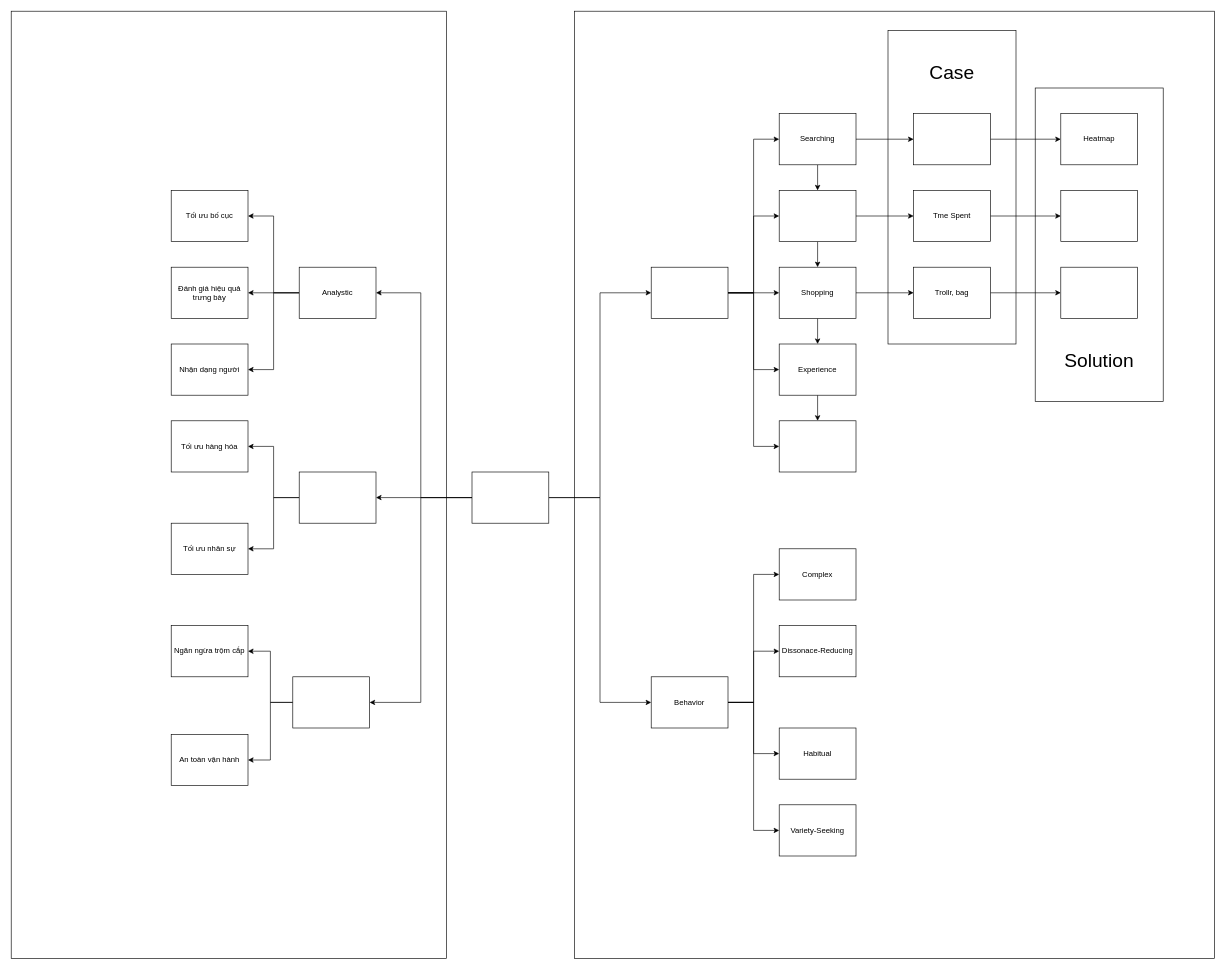
This 1226x970 diagram has some shape labels left out. The shapes that lost their labels are listed below. From the top down, each one's centre as x and y in pixels, then its label:
the point at 951,139: Travel Route
the point at 817,216: Selection
the point at 1099,216: Dwell TIme
the point at 689,292: Definition
the point at 1099,292: Detection
the point at 817,446: Reaction
the point at 337,497: Operations & CX
the point at 510,497: Shopping_Behavior
the point at 331,702: Loss Prevention
